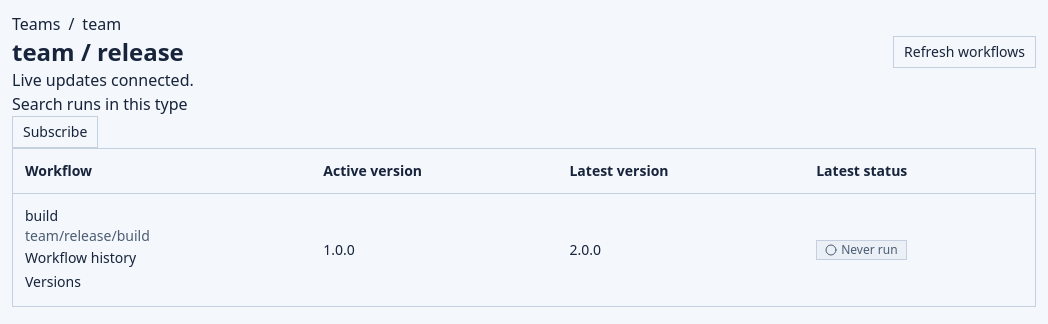
Test: catalogue views › hides cached workflows after scoped access revocation
Expected: the table is shown, 13,149 -> 1035,306
Click the button "Refresh workflows": (965, 52) 893,36 -> 1036,68
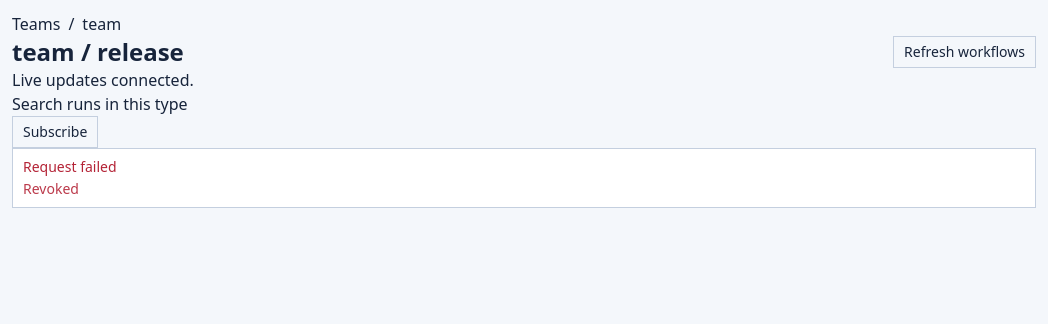
Now the table is gone
Now the message "Request failed Revoked" is shown, box 12,148 -> 1036,208
